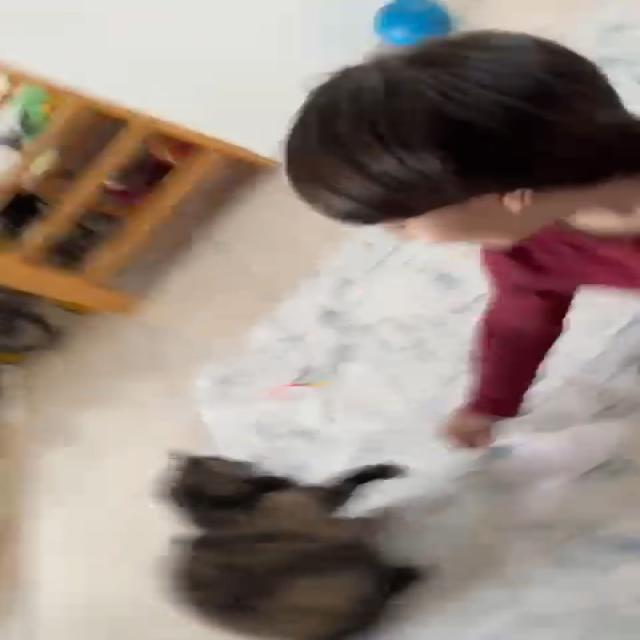authorized: (160, 451, 427, 638)
